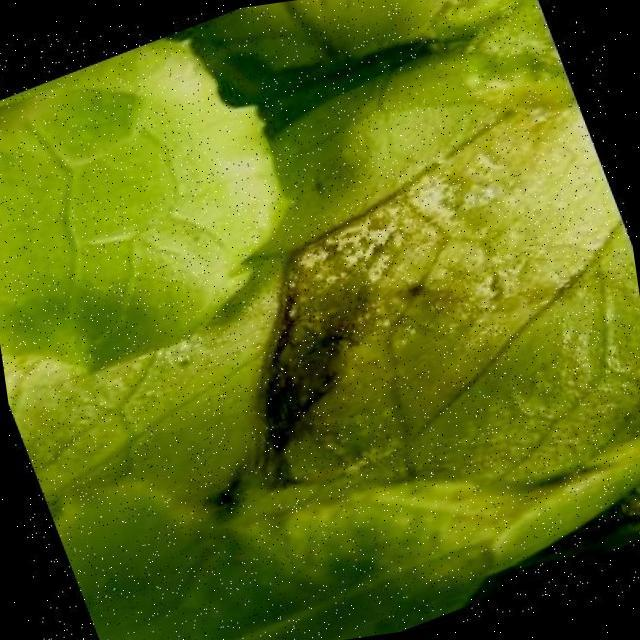Healthy: (169, 152, 584, 534)
